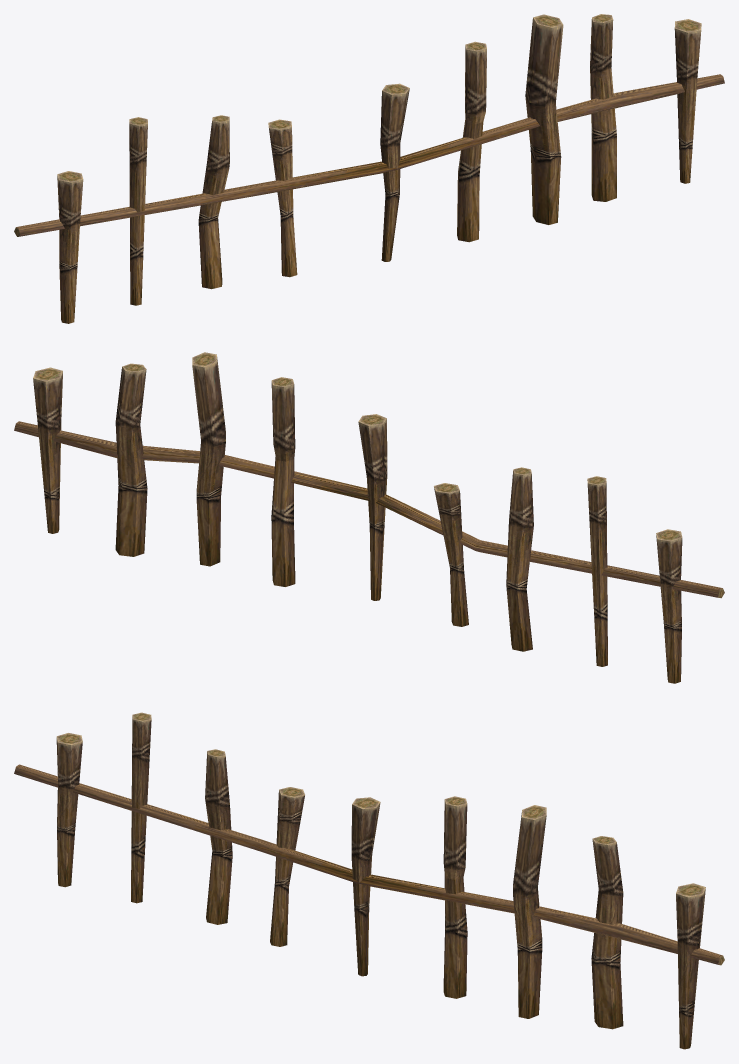
File: 7003_Item_zhalan_1.FBX
3 views of the same model, one above another, from view 1: azimuth 30°, elevation 25°; view 2: azimuth 150°, elevation 25°; view 3: azimuth 330°, elevation 25° (orthographic). The views are drawn at different scales.
Parts seen in each view (by area): view 1: 7003_Item_zhalan_1; view 2: 7003_Item_zhalan_1; view 3: 7003_Item_zhalan_1.
Boxes of the visible parts, x1,y1,x2,y2 form: 7003_Item_zhalan_1: [14, 14, 724, 323]; 7003_Item_zhalan_1: [14, 352, 724, 683]; 7003_Item_zhalan_1: [14, 712, 724, 1049].
Bounding box in the file's own units: 512 × 44 × 140.
1 material, 1 textured.
